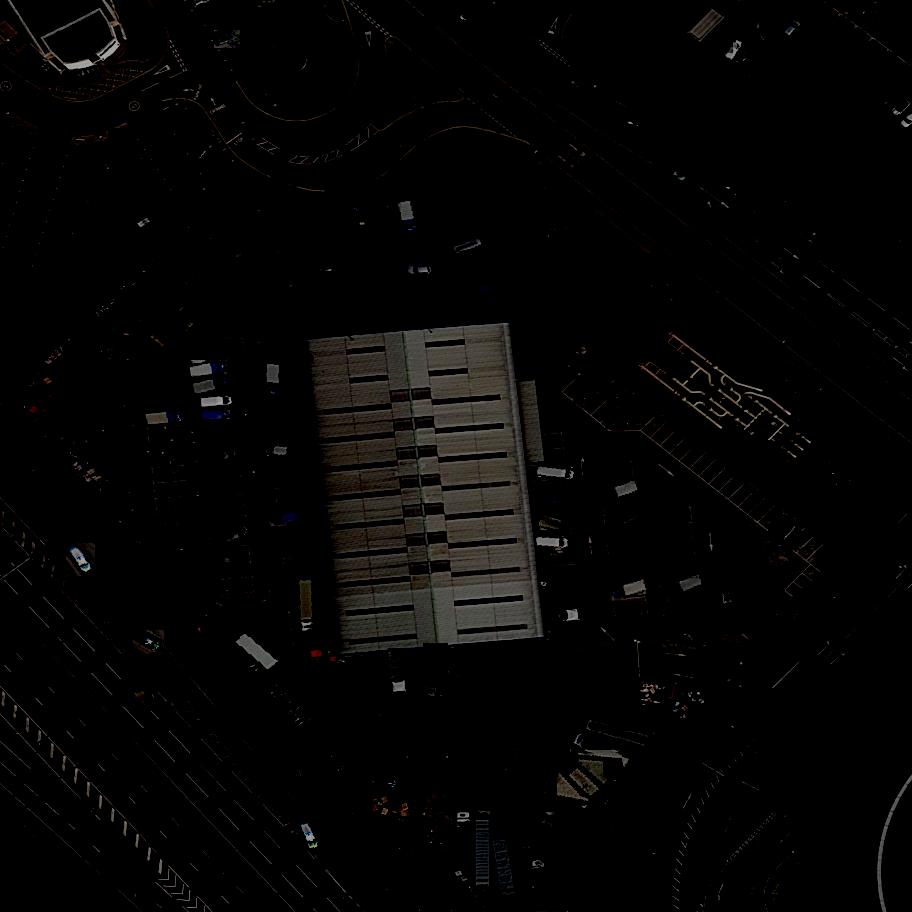large-vehicle: (329, 722, 405, 797), (680, 600, 776, 636), (497, 763, 559, 814), (540, 831, 576, 912), (227, 625, 281, 676), (572, 729, 634, 773), (165, 560, 223, 603), (584, 717, 653, 750), (558, 758, 603, 803), (535, 779, 595, 805), (720, 585, 786, 608), (424, 643, 449, 701), (609, 708, 668, 731), (124, 665, 153, 710), (564, 758, 623, 778), (188, 341, 228, 369), (665, 572, 705, 600), (602, 477, 642, 504), (198, 420, 238, 447), (298, 580, 318, 634), (531, 860, 551, 911), (388, 648, 409, 696), (611, 579, 650, 603), (257, 399, 296, 421), (188, 360, 228, 381), (193, 375, 231, 397), (532, 490, 573, 510), (143, 379, 182, 400), (397, 199, 420, 234), (539, 515, 576, 536), (610, 541, 646, 561), (659, 537, 696, 556), (146, 409, 184, 427), (614, 567, 659, 582), (270, 508, 302, 529), (206, 477, 243, 495), (215, 545, 248, 565), (597, 467, 633, 483), (605, 527, 641, 543), (604, 497, 639, 513), (462, 281, 495, 297), (272, 473, 305, 489), (266, 365, 282, 397), (217, 516, 248, 531), (361, 257, 393, 271), (283, 541, 314, 553), (272, 461, 303, 471), (202, 410, 230, 421), (456, 218, 485, 228)
small-vehicle: (450, 233, 491, 260), (200, 446, 242, 471), (67, 542, 96, 578), (771, 520, 801, 553), (296, 820, 322, 857), (659, 157, 692, 186), (216, 526, 252, 551), (607, 509, 642, 534), (133, 630, 165, 657), (716, 171, 744, 200), (108, 128, 137, 155), (613, 108, 646, 131), (739, 53, 767, 80), (655, 506, 690, 527), (537, 465, 577, 481), (265, 442, 299, 460), (214, 29, 243, 50), (781, 16, 805, 41), (192, 141, 215, 167), (169, 111, 195, 134), (563, 68, 586, 94), (770, 8, 796, 31), (730, 48, 757, 70), (662, 556, 698, 572), (829, 53, 854, 76), (877, 89, 902, 112), (723, 37, 745, 63), (451, 5, 472, 32), (6, 137, 34, 157), (575, 384, 597, 409), (52, 619, 74, 644), (712, 31, 733, 57), (180, 134, 207, 154), (889, 97, 912, 120), (605, 407, 627, 431), (881, 159, 904, 181), (536, 537, 570, 551), (121, 151, 146, 169), (304, 263, 334, 276), (269, 430, 292, 445), (656, 526, 686, 537), (307, 287, 333, 299), (406, 267, 432, 277)
